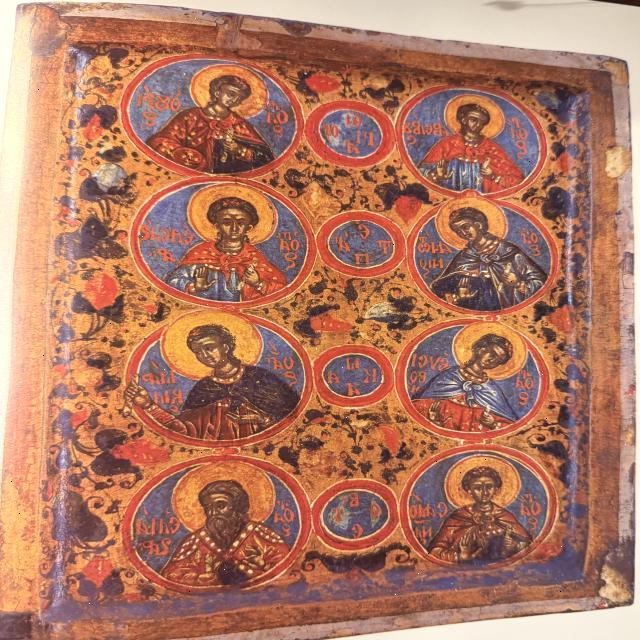aura: (170, 462, 277, 535), (160, 312, 262, 382), (187, 184, 279, 244), (442, 456, 520, 514), (190, 67, 268, 119), (453, 324, 526, 378), (435, 200, 510, 252), (445, 95, 503, 139)
saint: (145, 313, 291, 425), (158, 459, 289, 582), (162, 189, 289, 292), (421, 452, 537, 564), (152, 67, 278, 165), (431, 200, 531, 303), (426, 328, 530, 426), (420, 97, 520, 193)
